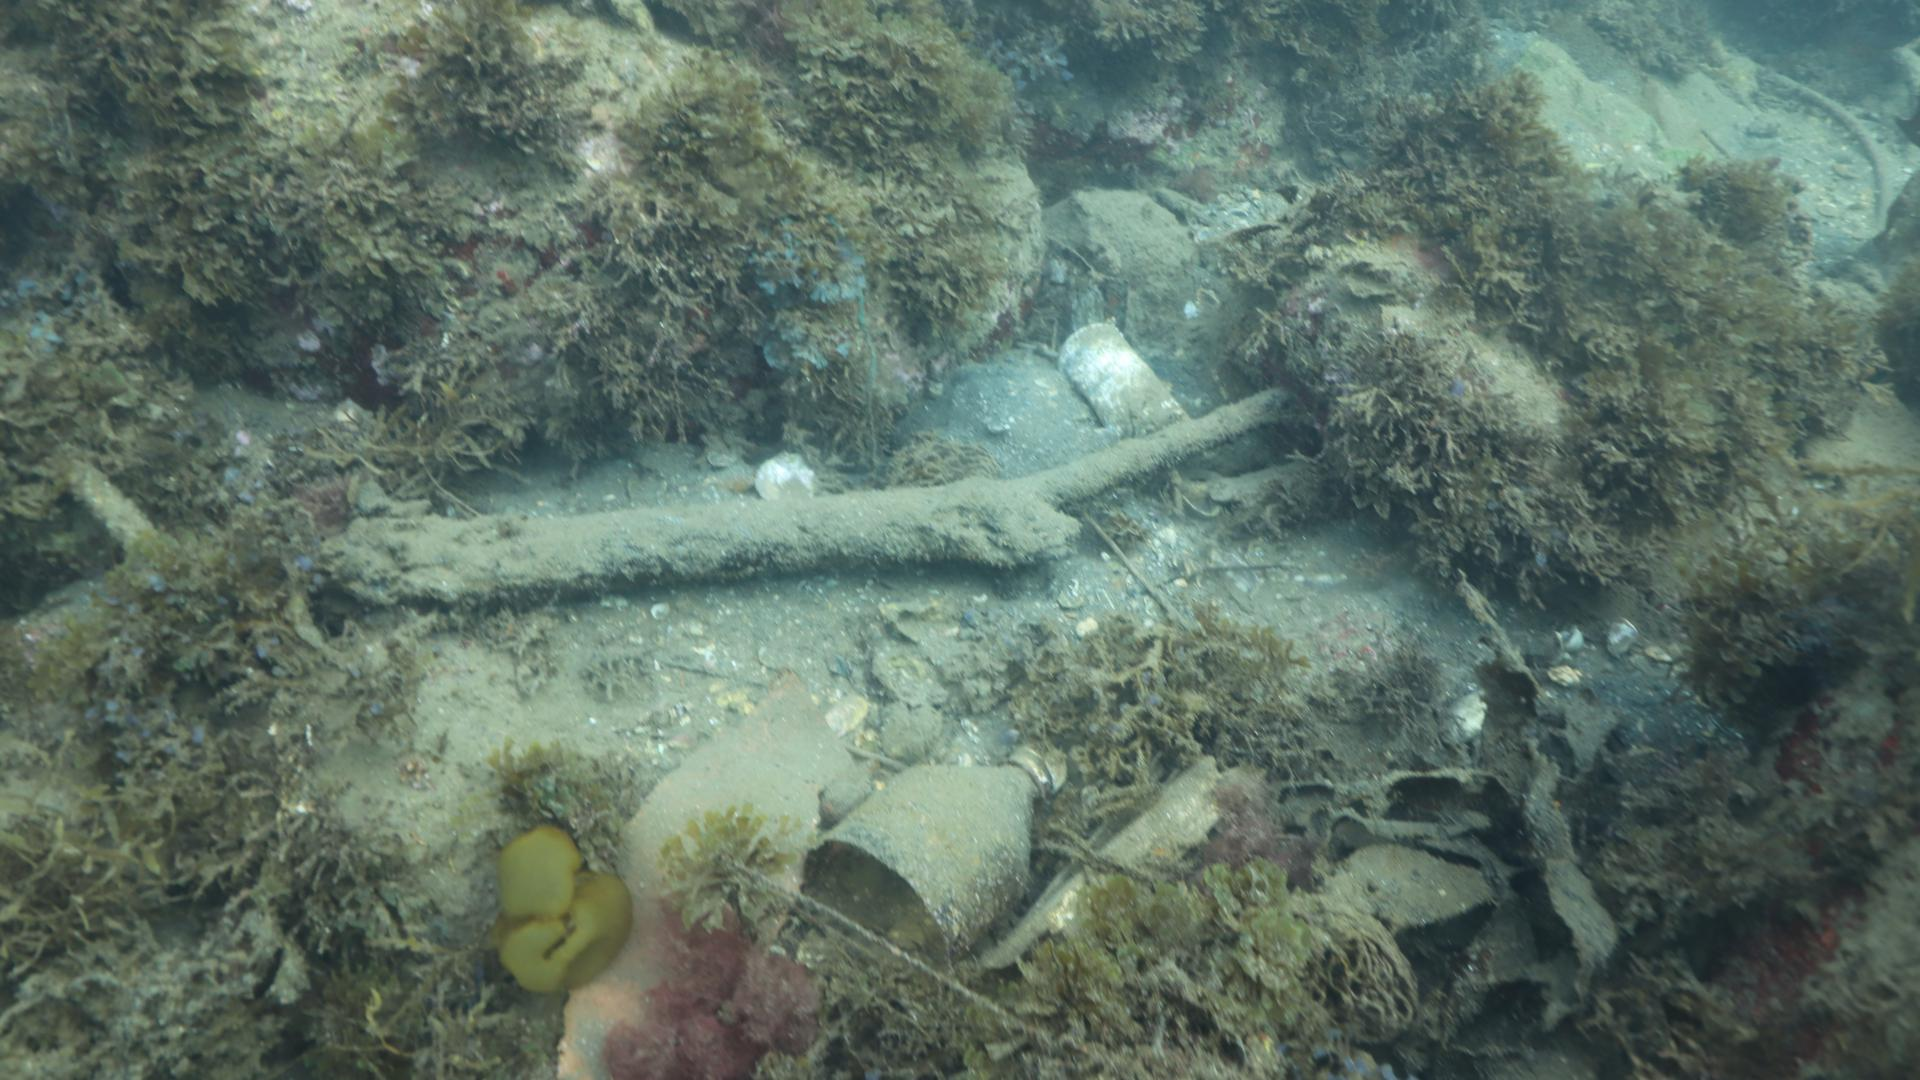rope: (1749, 59, 1891, 231), (59, 455, 157, 551)
wood: (310, 386, 1292, 604)
